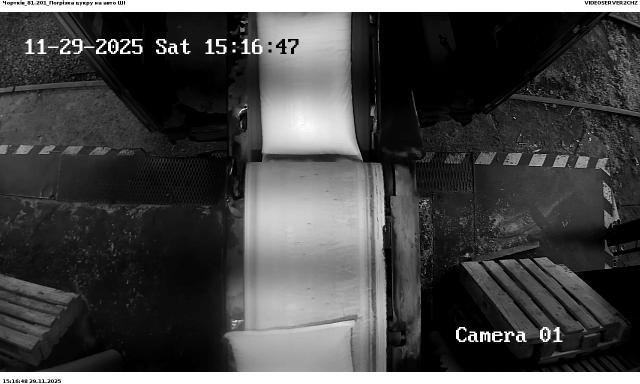bag: (255, 12, 362, 159), (224, 320, 360, 372)
